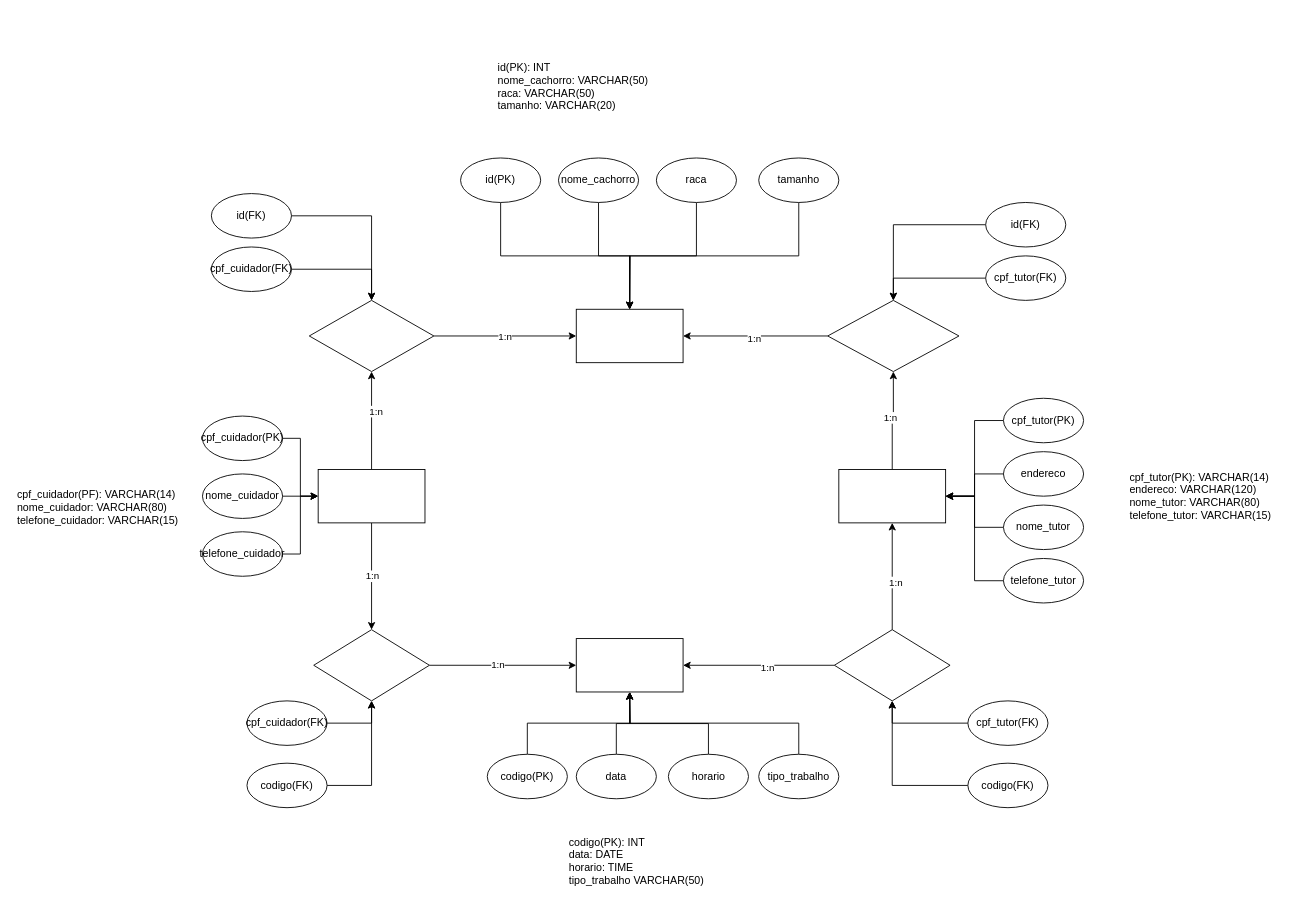
The diagram is 1303 pixels wide and 914 high, and some of its shapes have lost their labels. Here are the shapes that lost their labels. From the top down, the centre of each, then its label:
pixel 371 335: banha
pixel 629 335: CACHORRO
pixel 893 335: cuida
pixel 371 496: CUIDADOR
pixel 892 496: TUTOR
pixel 371 665: verifica
pixel 629 665: RESERVA
pixel 891 665: faz
